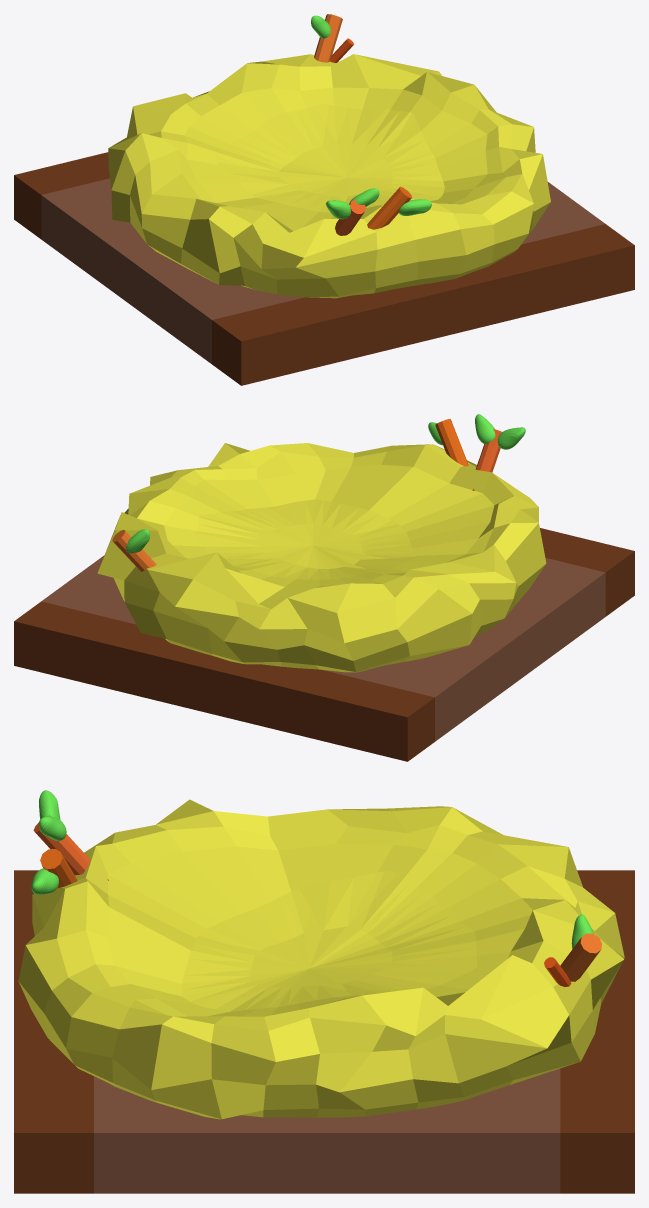
The model's file is Maison.fbx.
3 renders of one model, top to bottom at view 1: azimuth 30°, elevation 25°; view 2: azimuth 150°, elevation 25°; view 3: azimuth 270°, elevation 25°, orthographic. The views are drawn at different scales.
Visible parts, largest first — view 1: Torus.001, Cube; view 2: Torus.001, Cube; view 3: Torus.001, Cube.
Boxes of the visible parts, <box> form: Torus.001: <box>108,14,550,298</box>; Cube: <box>14,152,634,385</box>; Torus.001: <box>97,414,546,672</box>; Cube: <box>14,528,634,761</box>; Torus.001: <box>18,790,624,1119</box>; Cube: <box>14,870,634,1193</box>.
Size of the model in its own units: 265 by 98.97 by 265.
